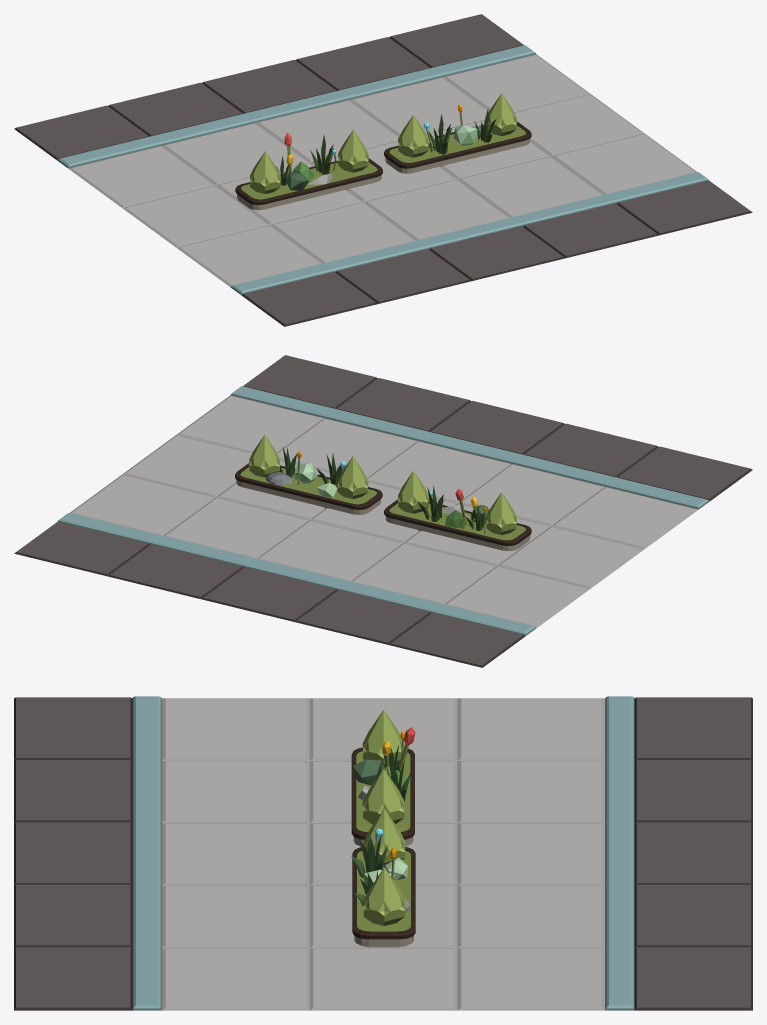
The model's file is Road_E.glb.
The picture shows the model from 3 angles, top to bottom: view 1: azimuth 30°, elevation 25°; view 2: azimuth 150°, elevation 25°; view 3: azimuth 270°, elevation 25°; orthographic projection. The views are drawn at different scales.
Parts seen in each view (by area): view 1: Road_E, Cube.277, Cube.278, Cone.139, Cone.137, Cone.138, Cone.136; view 2: Road_E, Cube.278, Cube.277, Cone.138, Cone.137, Cone.136, Cone.139; view 3: Road_E, Cube.278, Cube.277, Cone.136, Cone.139, Cone.138, Cone.137, Grass_03.641, Tree_03.1513.
Part boxes in pixels (left/top/right/bottom): Road_E: left=14, top=14, right=752, bottom=326; Cube.277: left=235, top=158, right=382, bottom=210; Cube.278: left=384, top=121, right=531, bottom=173; Cone.139: left=338, top=129, right=368, bottom=172; Cone.137: left=398, top=115, right=428, bottom=157; Cone.138: left=250, top=151, right=280, bottom=193; Cone.136: left=487, top=93, right=516, bottom=135; Road_E: left=14, top=355, right=752, bottom=667; Cube.278: left=235, top=463, right=382, bottom=514; Cube.277: left=384, top=499, right=531, bottom=551; Cone.138: left=486, top=492, right=516, bottom=535; Cone.137: left=337, top=456, right=368, bottom=498; Cone.136: left=249, top=435, right=279, bottom=477; Cone.139: left=398, top=471, right=428, bottom=513; Road_E: left=14, top=696, right=752, bottom=1010; Cube.278: left=352, top=847, right=415, bottom=947; Cube.277: left=351, top=747, right=414, bottom=846; Cone.136: left=363, top=867, right=405, bottom=925; Cone.139: left=362, top=768, right=404, bottom=824; Cone.138: left=362, top=710, right=404, bottom=767; Cone.137: left=363, top=808, right=405, bottom=867; Grass_03.641: left=351, top=834, right=387, bottom=878; Tree_03.1513: left=353, top=759, right=381, bottom=785.
Size of what is drawn, in the model's own units: 16 by 1.69 by 16.
Materials: 1 (1 with a texture image).
